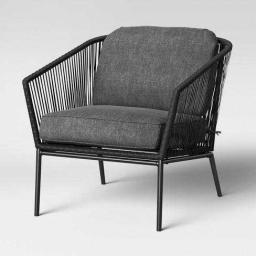Chair: (21, 26, 232, 231)
